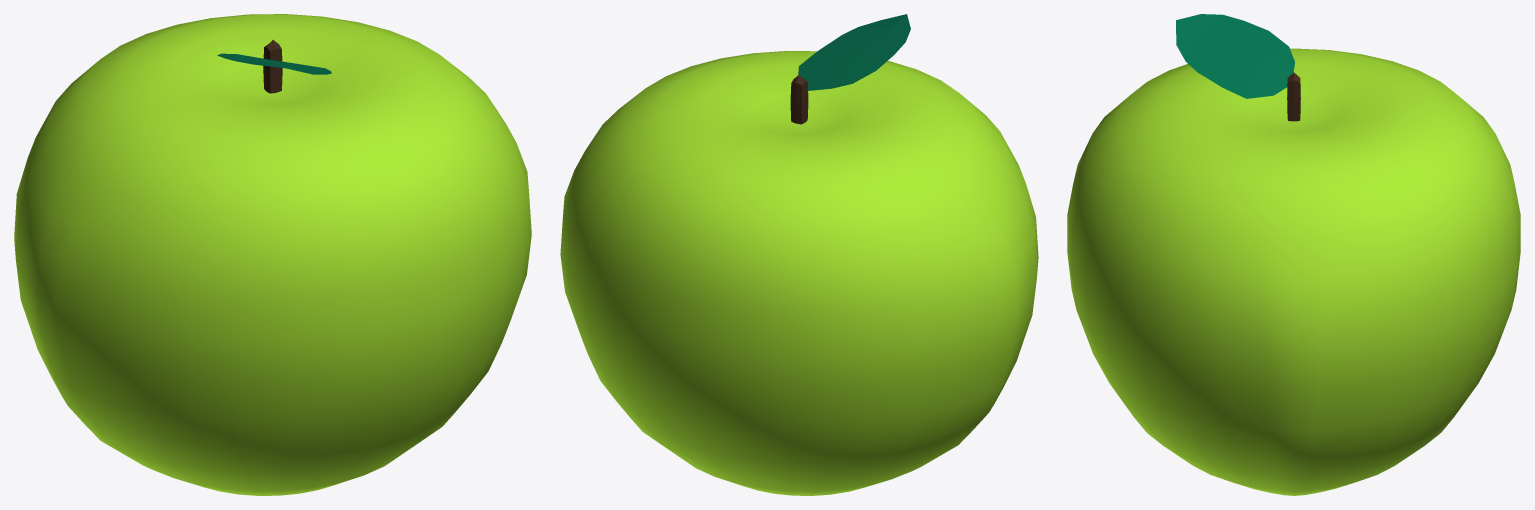
File: apple_g.fbx
3 views of the same model, side by side, from view 1: azimuth 30°, elevation 25°; view 2: azimuth 150°, elevation 25°; view 3: azimuth 270°, elevation 25° (orthographic). The views are drawn at different scales.
Parts seen in each view (by area): view 1: Sphere; view 2: Sphere; view 3: Sphere.
Part boxes in pixels (left/top/right/bottom): Sphere: left=14, top=14, right=531, bottom=495; Sphere: left=560, top=14, right=1038, bottom=495; Sphere: left=1067, top=14, right=1520, bottom=495.
Size of the model in its own units: 200 by 182 by 182.
